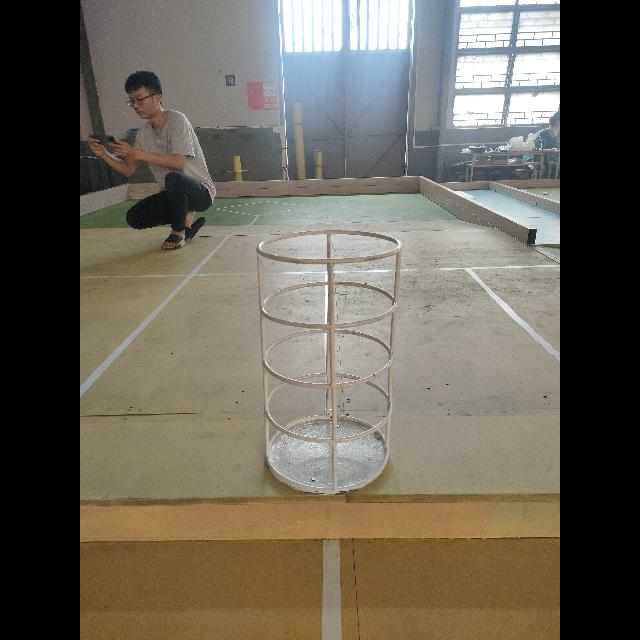S: (255, 226, 402, 495)
